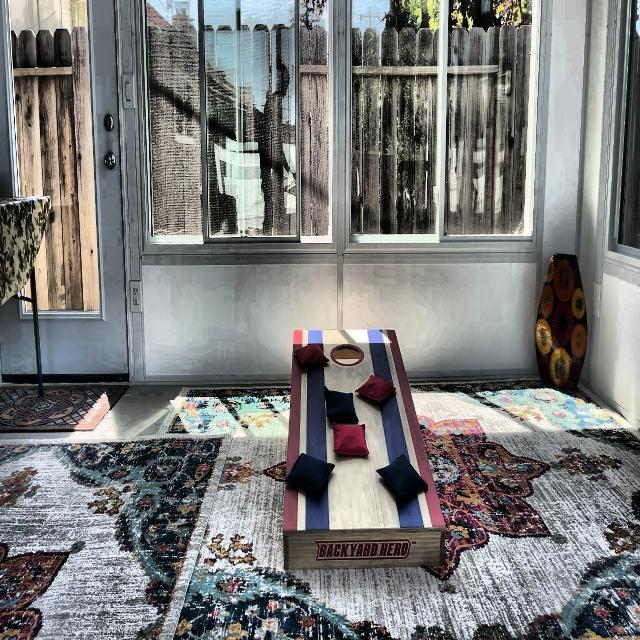blue-bean-bag: (377, 453, 429, 498), (285, 452, 335, 492), (325, 387, 359, 420)
board: (291, 330, 410, 530)
hole: (330, 342, 364, 366)
red-bean-bag: (332, 419, 370, 458), (356, 374, 396, 403), (295, 342, 329, 367)
